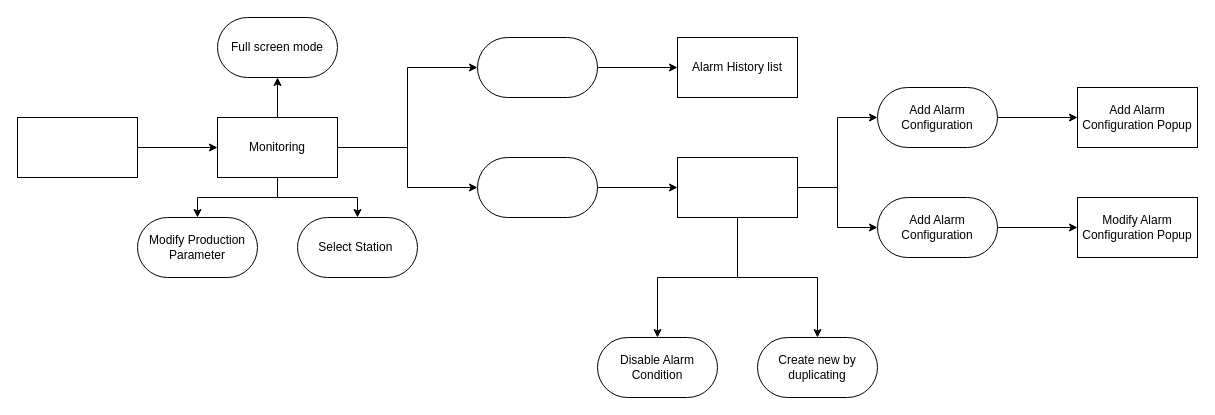
Some shapes in this 1215 by 415 pixel diagram are drawn without their labels. The shapes that lost their labels are listed below. From the top down, each one's centre as x and y in pixels, then its label:
At point (537, 67): "Alarm History".
At point (77, 147): "Login".
At point (537, 187): "Alarrm Configuration".
At point (737, 187): "Alarm Configuration list".
